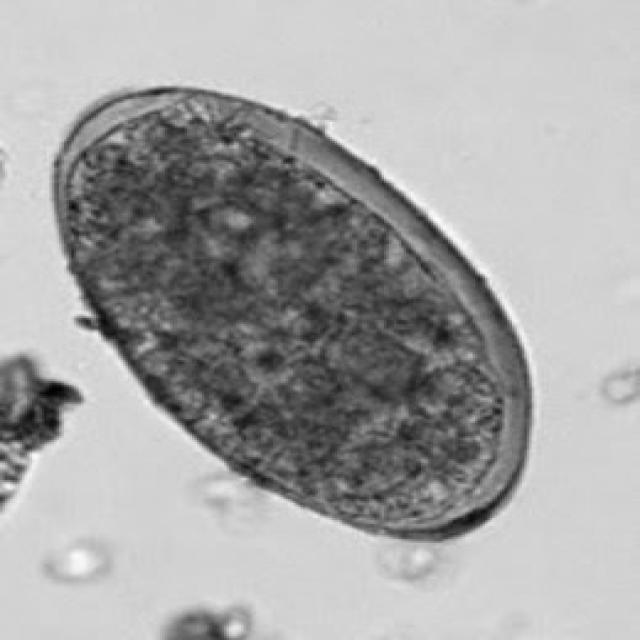Enterobius Vermicularis: (29, 76, 562, 558)
